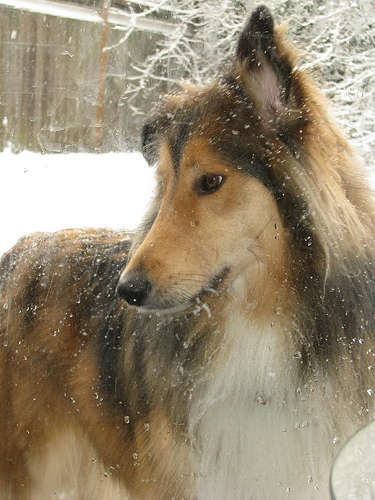dog: (1, 5, 373, 498)
